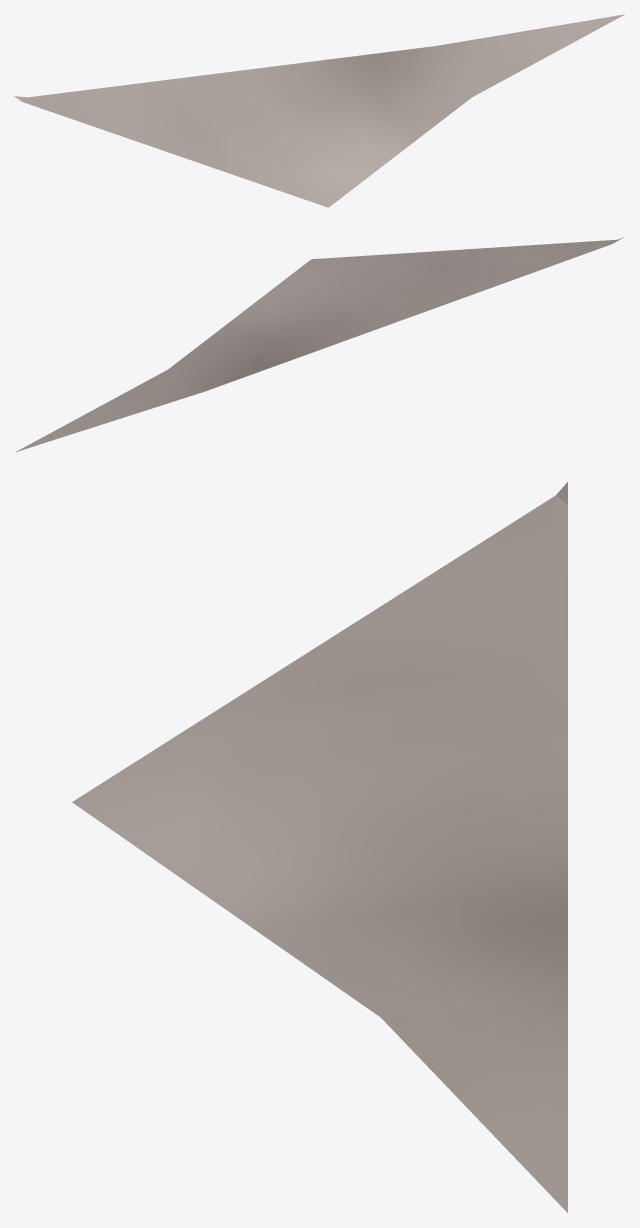
The picture shows the model from 3 angles, top to bottom: view 1: azimuth 30°, elevation 25°; view 2: azimuth 210°, elevation 25°; view 3: azimuth 270°, elevation 25°; orthographic projection. The views are drawn at different scales.
Bounding box in the file's own units: 0.3395 × 0.0357 × 0.1192.
1 material, 1 textured.
